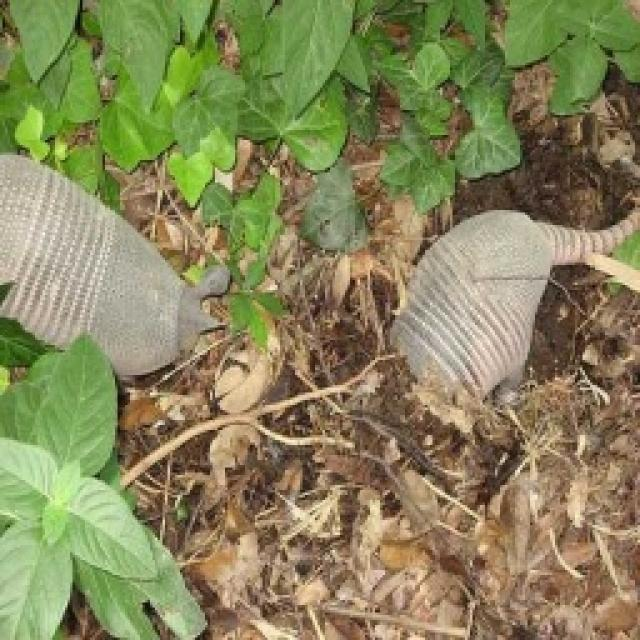pig: (0, 148, 230, 378), (390, 205, 640, 405)
